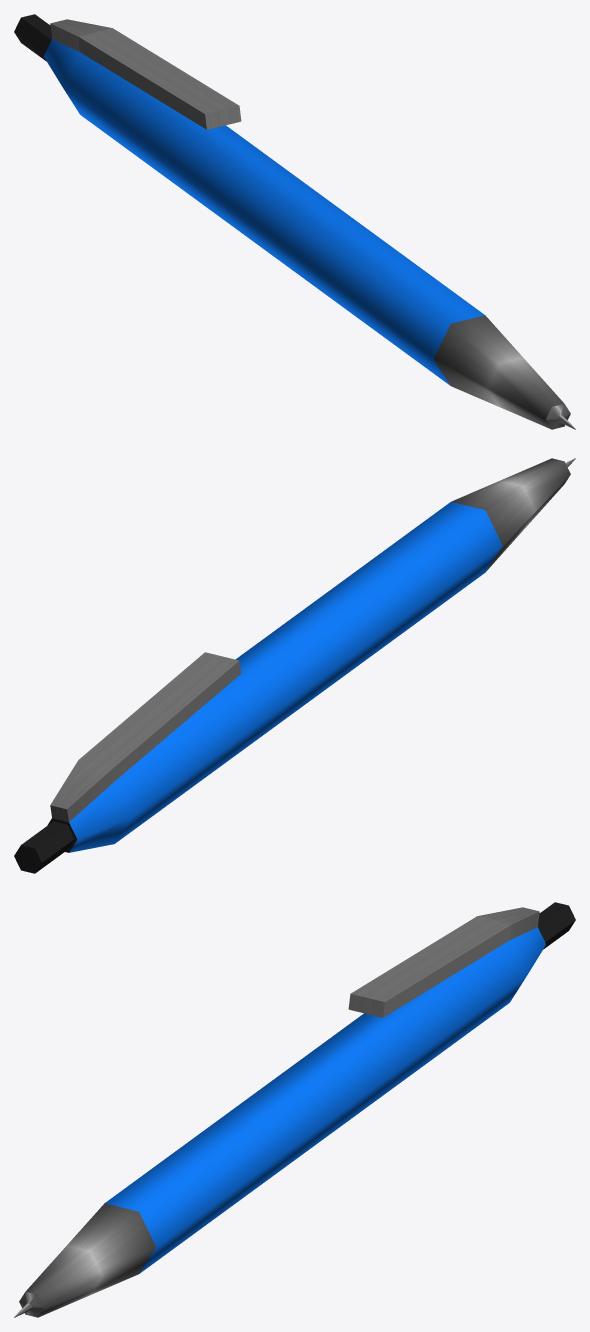
The model's file is Pen_F.FBX.
The picture shows the model from 3 angles, top to bottom: view 1: azimuth 30°, elevation 25°; view 2: azimuth 150°, elevation 25°; view 3: azimuth 330°, elevation 25°; orthographic projection.
Visible parts, largest first — view 1: Pen; view 2: Pen; view 3: Pen.
Part boxes in pixels (x1,y1,x2,y2): Pen: [14, 14, 575, 429]; Pen: [14, 458, 575, 873]; Pen: [14, 902, 575, 1317].
Bounding box in the file's own units: 4 × 5.1 × 55.01.
